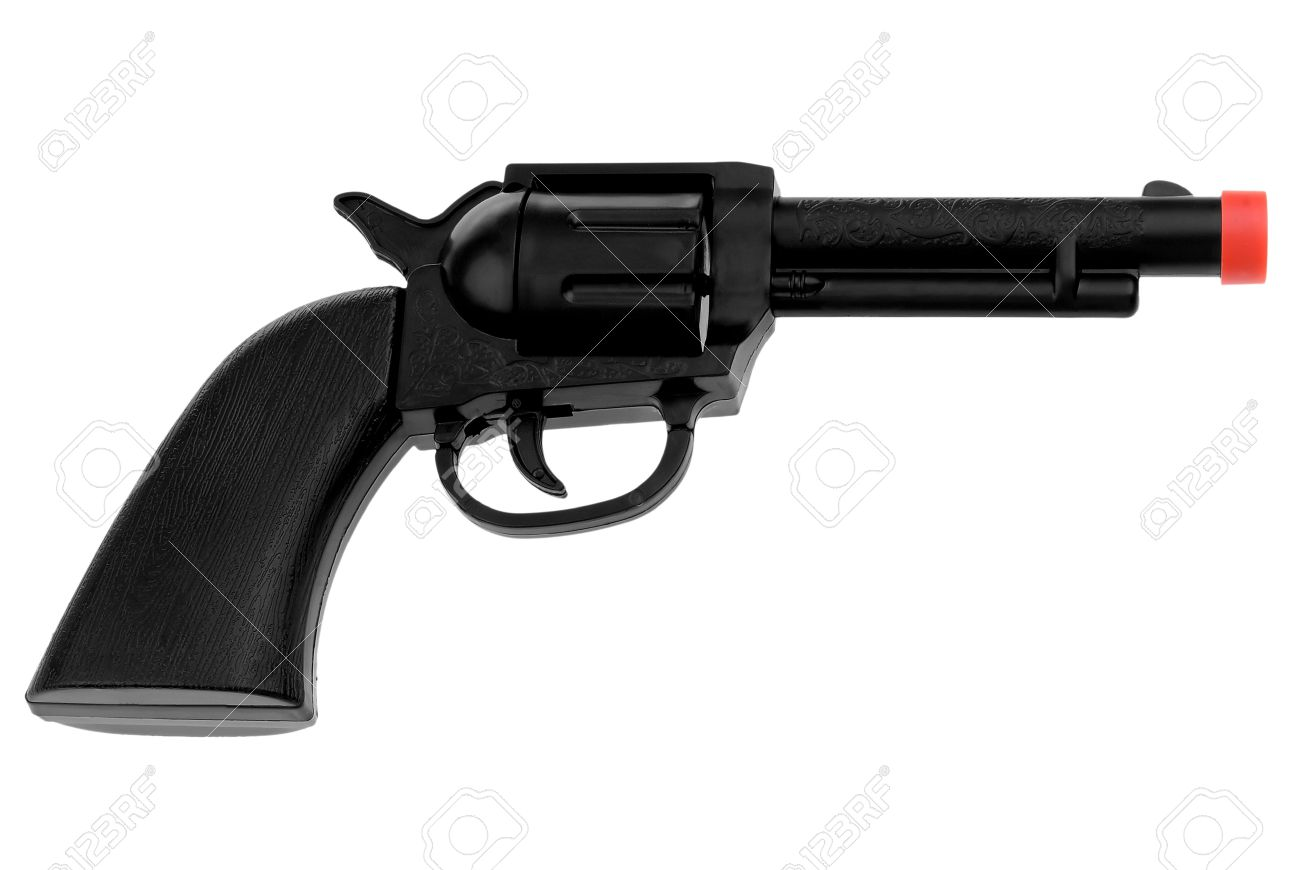Arma Falsa: (31, 157, 1267, 739)
